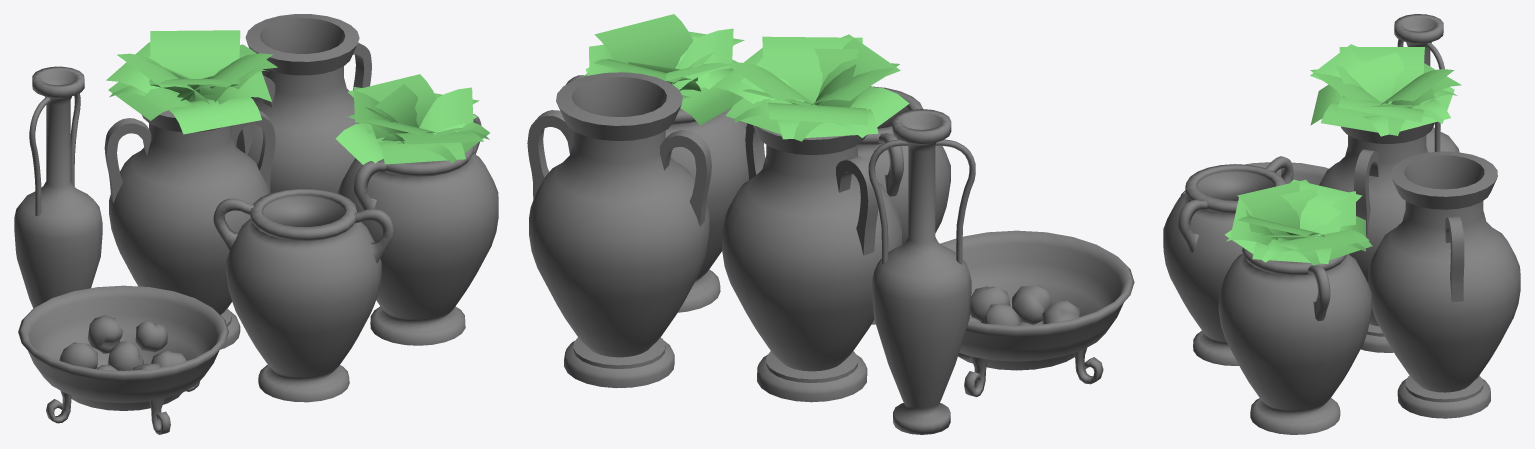
File: SM_amphora_preset_01.fbx
3 views of the same model, side by side, from view 1: azimuth 30°, elevation 25°; view 2: azimuth 150°, elevation 25°; view 3: azimuth 270°, elevation 25° (orthographic). The views are drawn at different scales.
Parts seen in each view (by area): view 1: Cylinder050; view 2: Cylinder050; view 3: Cylinder050.
Part boxes in pixels (x1,y1,x2,y2): Cylinder050: [14, 14, 498, 434]; Cylinder050: [527, 14, 1134, 434]; Cylinder050: [1163, 14, 1520, 434].
Bounding box in the file's own units: 90.51 × 50.88 × 62.64.
